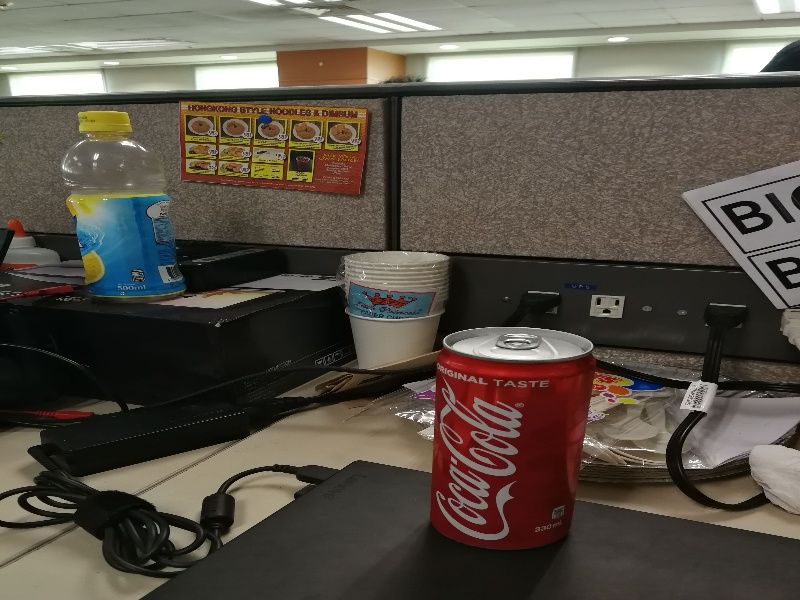PET #1: (65, 92, 193, 304)
